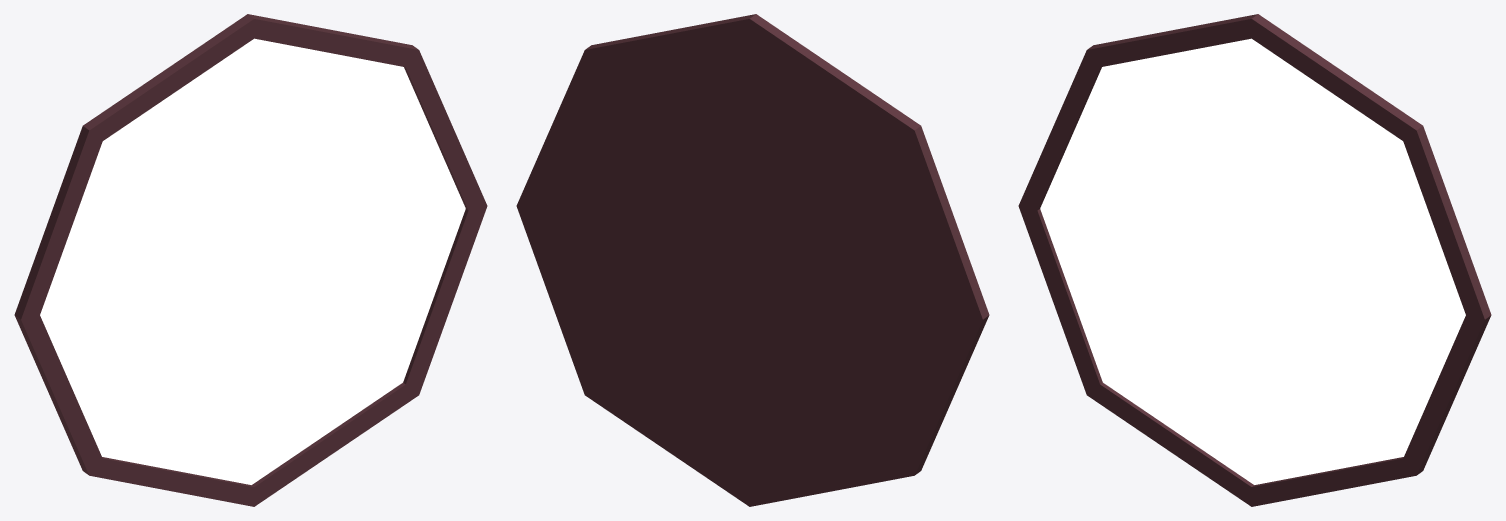
The model's file is furniture-mirror-circle-big.glb.
3 views of the same model, side by side, from view 1: azimuth 30°, elevation 25°; view 2: azimuth 150°, elevation 25°; view 3: azimuth 330°, elevation 25° (orthographic).
Parts seen in each view (by area): view 1: mirror-circle-big; view 2: mirror-circle-big; view 3: mirror-circle-big.
Part boxes in pixels (x1,y1,x2,y2): mirror-circle-big: [14, 14, 487, 506]; mirror-circle-big: [516, 14, 989, 506]; mirror-circle-big: [1018, 14, 1491, 506].
Size of the model in its own units: 0.8941 by 0.8941 by 0.0218.
